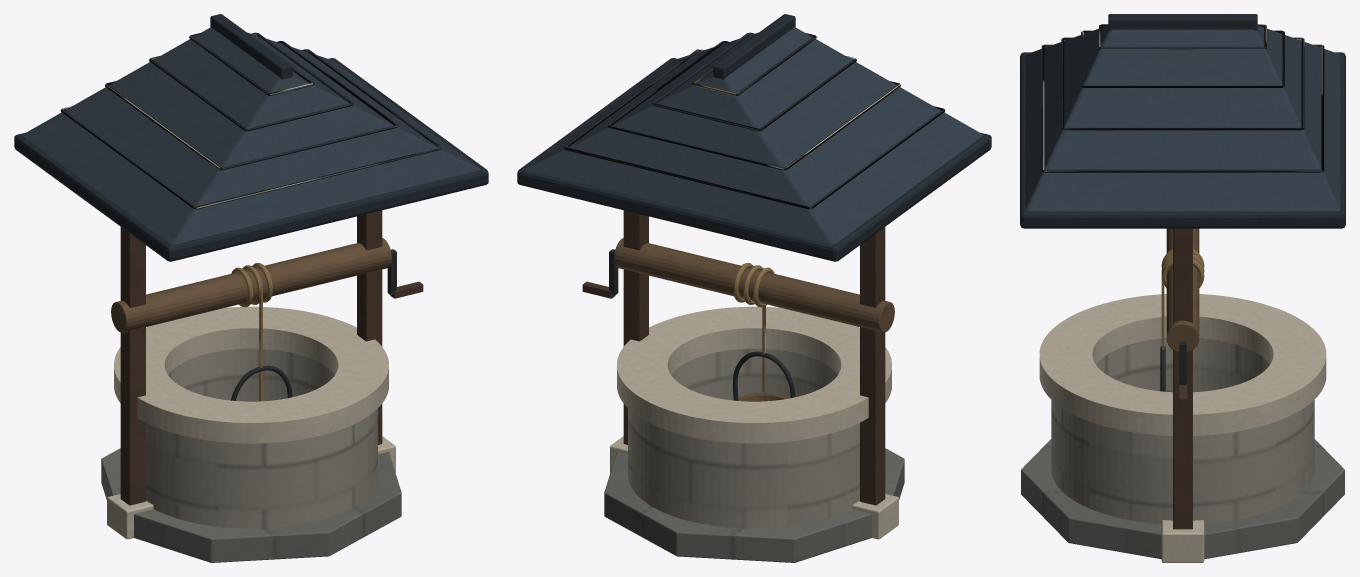
Rendered from Well.fbx.
3 renders of one model, left to right at view 1: azimuth 30°, elevation 25°; view 2: azimuth 150°, elevation 25°; view 3: azimuth 270°, elevation 25°, orthographic. The views are drawn at different scales.
Parts seen in each view (by area): view 1: Well.001; view 2: Well.001; view 3: Well.001.
Boxes of the visible parts, left/top/right/bottom form: Well.001: left=14, top=14, right=488, bottom=562; Well.001: left=517, top=14, right=991, bottom=562; Well.001: left=1020, top=14, right=1345, bottom=562.
Size of the model in its own units: 3.38 by 4.49 by 2.77.
